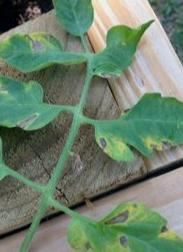Tomato Early blight leaf: (91, 97, 183, 163), (69, 202, 183, 252), (85, 182, 176, 242), (91, 11, 159, 83), (102, 98, 178, 151), (0, 81, 81, 126), (0, 76, 65, 132), (0, 34, 81, 73), (102, 29, 154, 87), (20, 47, 94, 79)
Tomato leaf: (71, 1, 107, 50), (51, 0, 98, 37)
